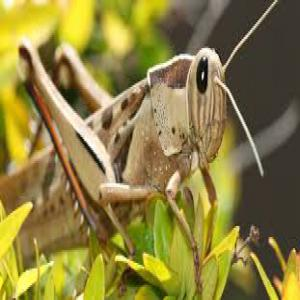locust: (1, 29, 245, 299)
